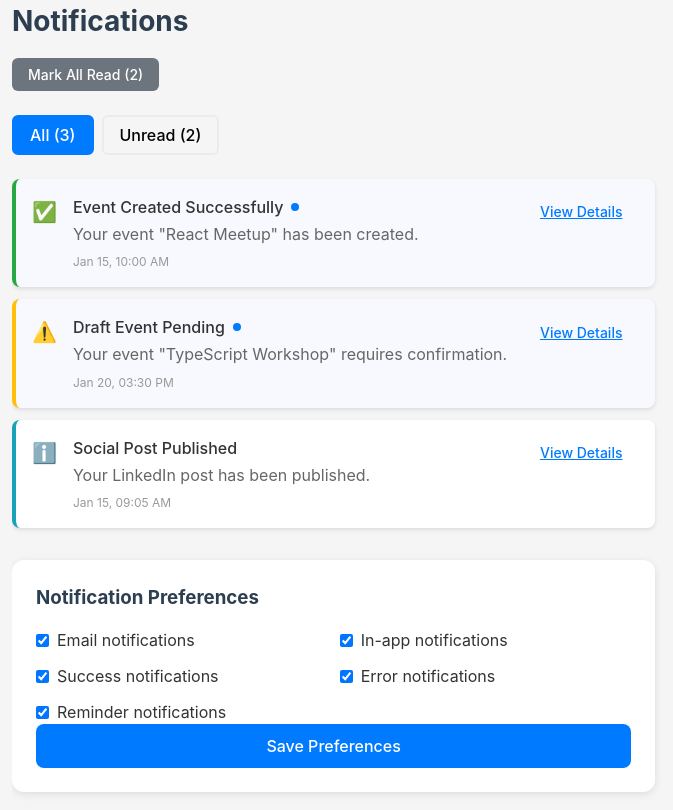
Test: NotificationCenter Component › shows save confirmation after saving preferences
The width and height of the screenshot is (673, 810).
Click the button "Save Preferences": [334, 746] box [36, 724, 631, 768]
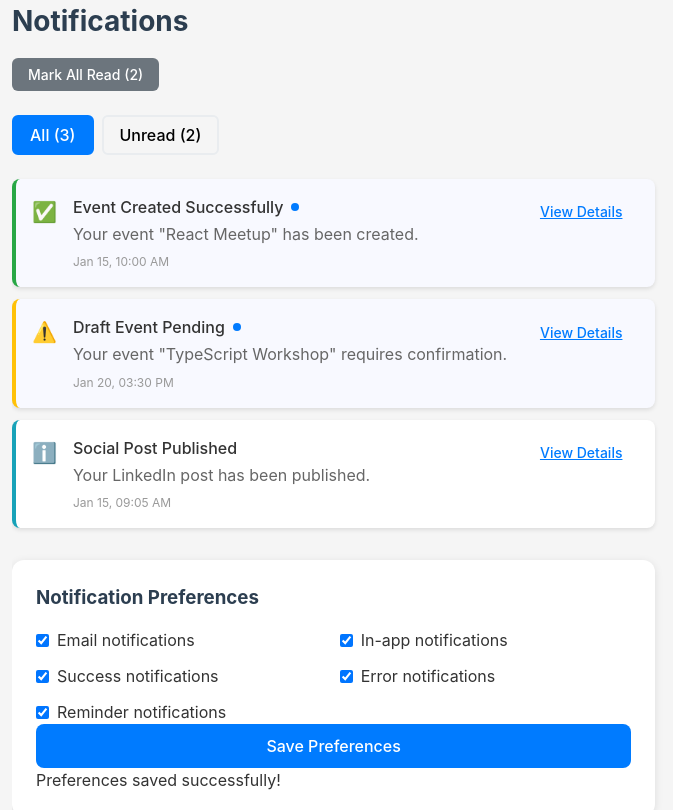
Check: the text "Preferences saved successfully!" is shown, box [36, 770, 281, 790]
